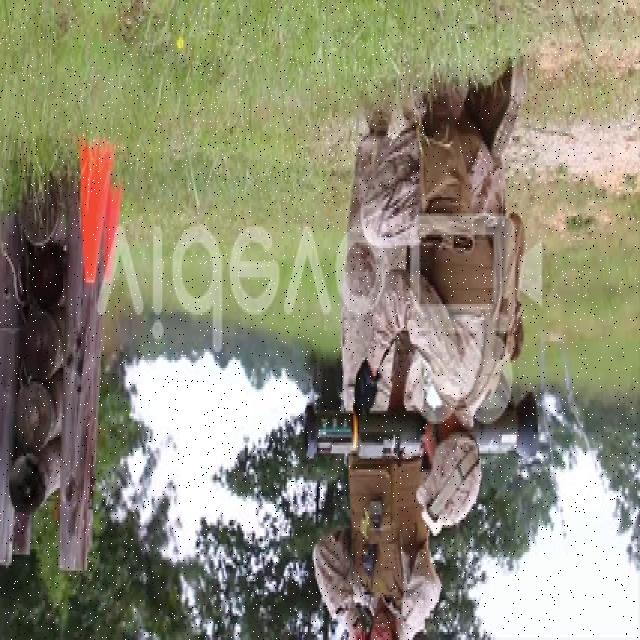bazooka: (295, 386, 544, 473)
